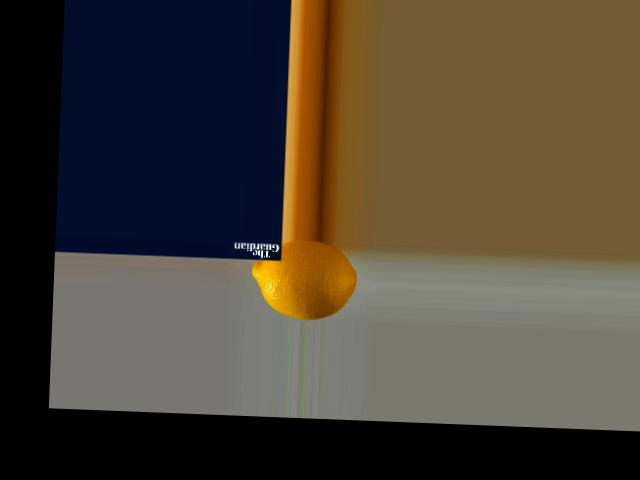lemon: (243, 237, 364, 321)
